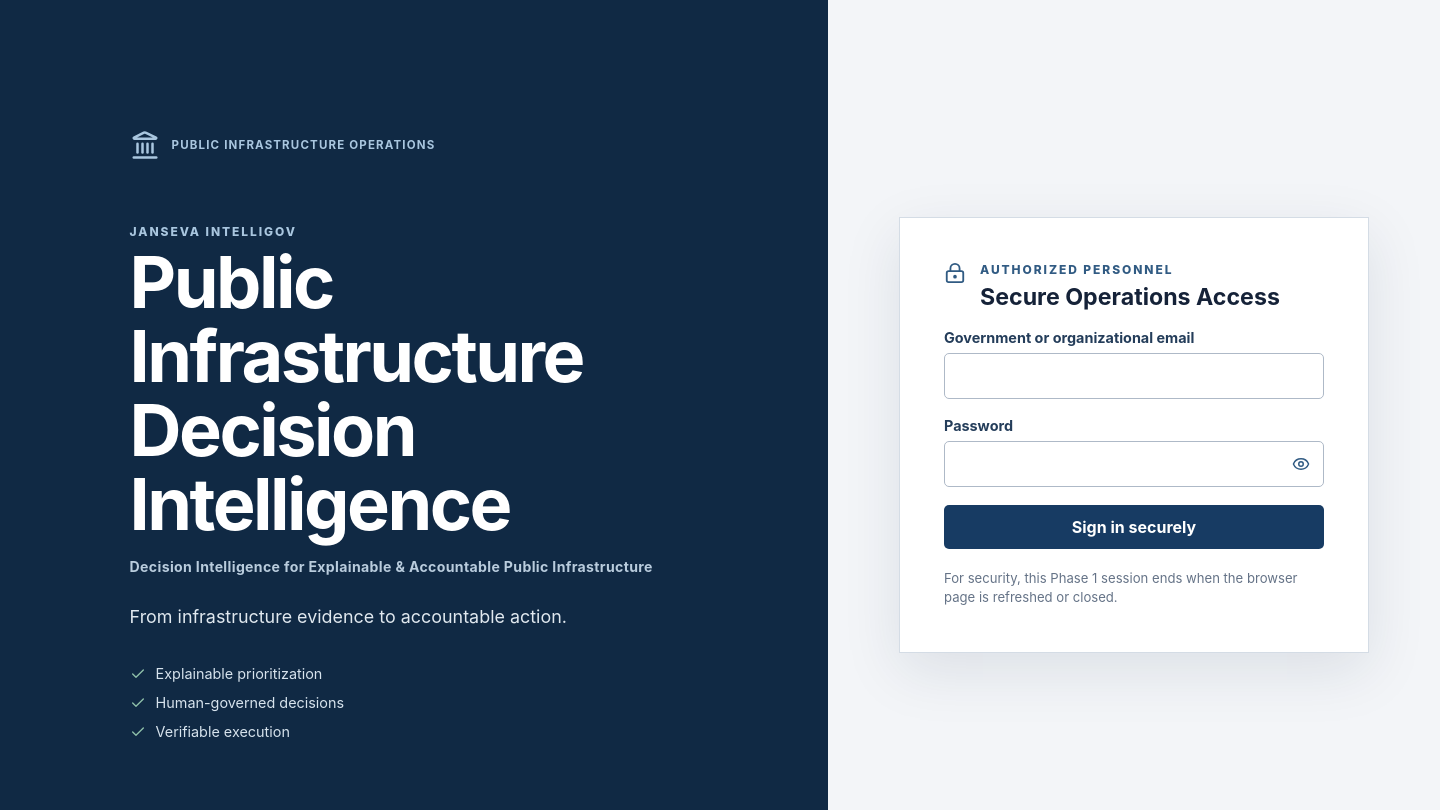
Test: Login page › renders labeled fields and validates empty submission
This screenshot has width=1440, height=810.
Step 1. Click the button "Sign in securely" → (1134,527), box [944,505,1324,549]
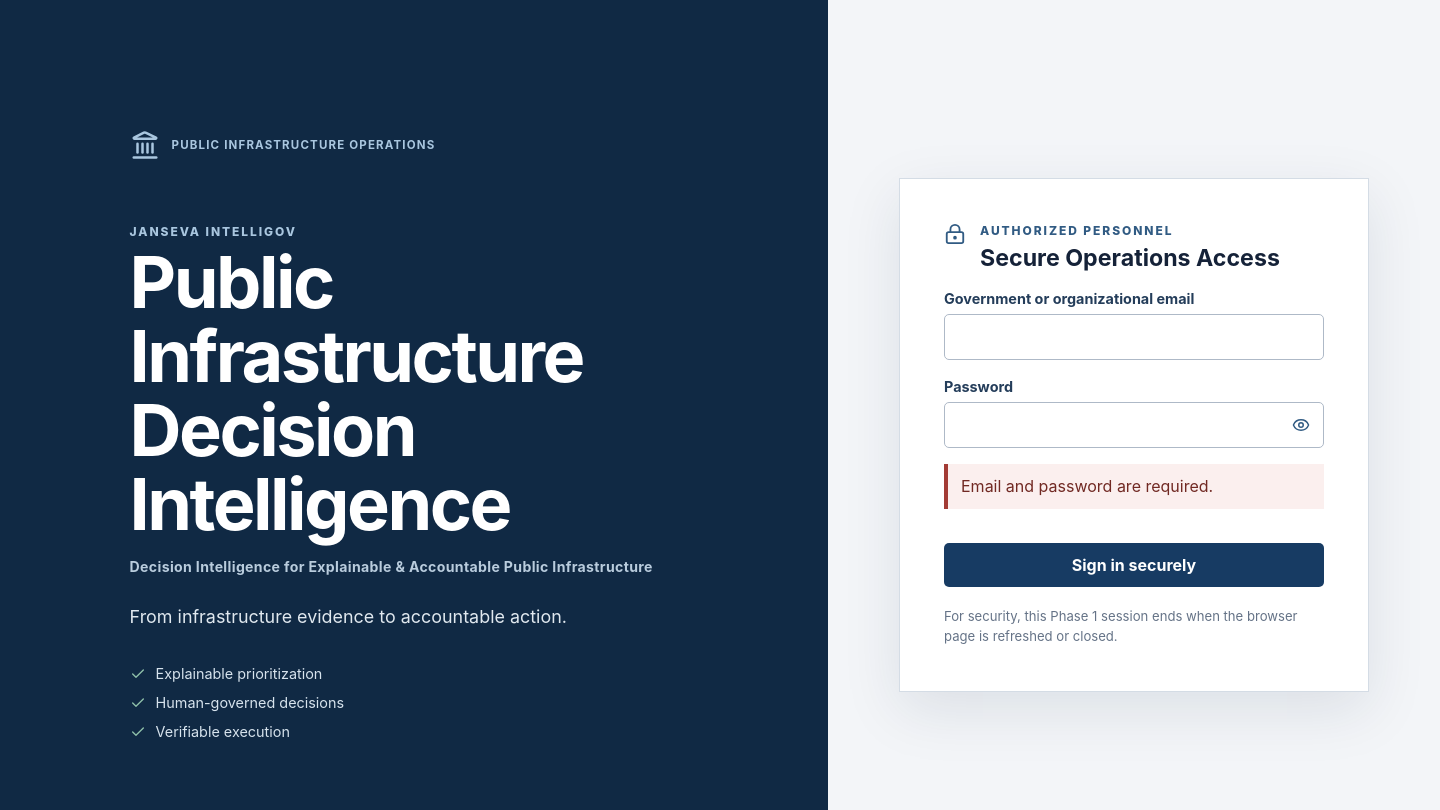
Check: the message reads "Email and password are required.", box [961,476,1213,496]
